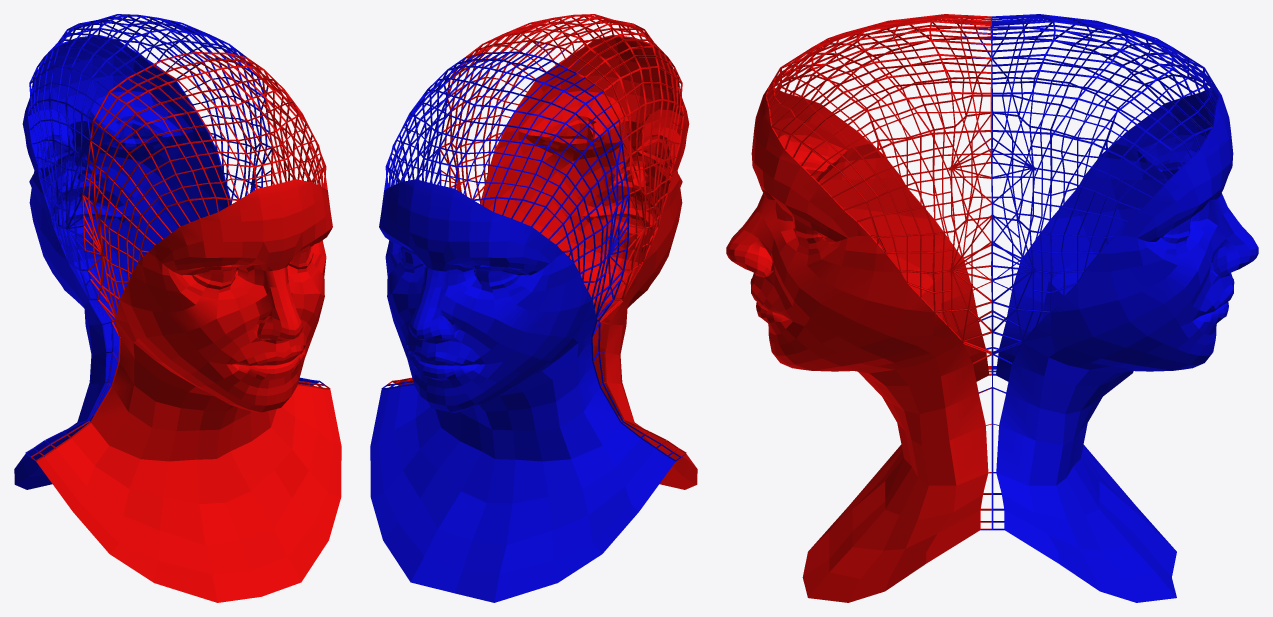
File: Janus_Lowpoly.fbx
The picture shows the model from 3 angles, left to right: view 1: azimuth 30°, elevation 25°; view 2: azimuth 150°, elevation 25°; view 3: azimuth 270°, elevation 25°; orthographic projection. The views are drawn at different scales.
Parts seen in each view (by area): view 1: Janus_LowPoly; view 2: Janus_LowPoly; view 3: Janus_LowPoly.
Part boxes in pixels (left/top/right/bottom): Janus_LowPoly: left=14, top=14, right=341, bottom=602; Janus_LowPoly: left=370, top=14, right=697, bottom=602; Janus_LowPoly: left=726, top=14, right=1258, bottom=602.
Bounding box in the file's own units: 11.45 × 17.97 × 15.81.
